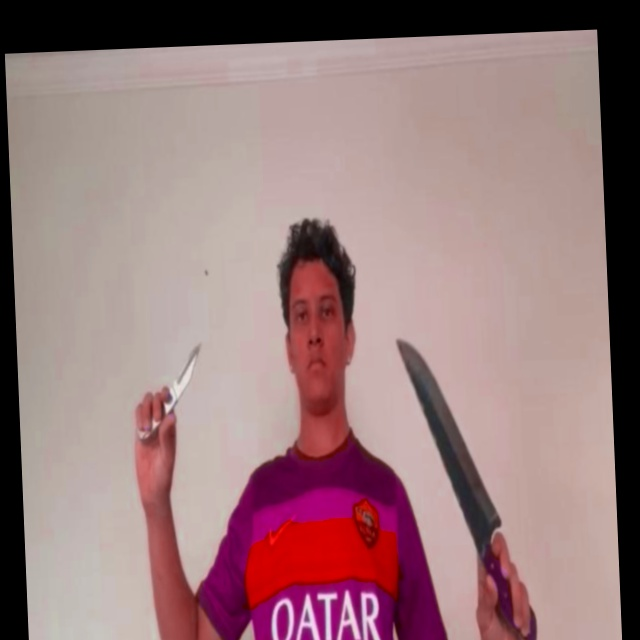Sharp-Object: (395, 334, 503, 536), (171, 344, 204, 397)
